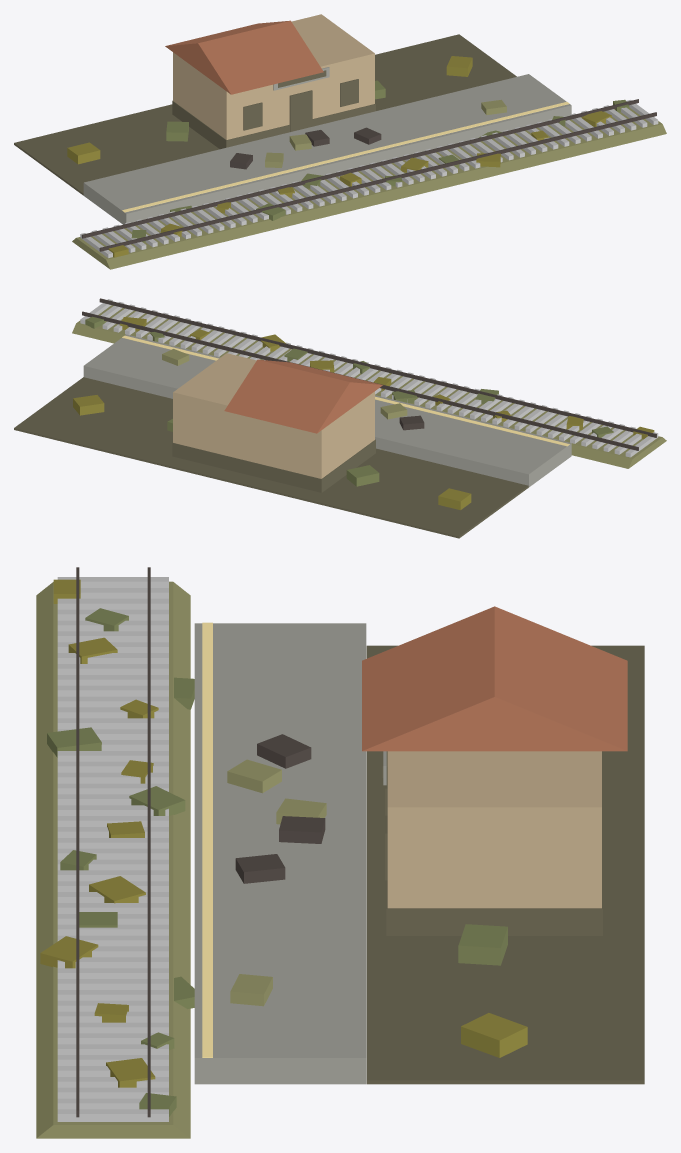
Rendered from SM_EstacionH1_v3_Abandonada_LOD0.fbx.
3 renders of one model, top to bottom at view 1: azimuth 30°, elevation 25°; view 2: azimuth 150°, elevation 25°; view 3: azimuth 270°, elevation 25°, orthographic. The views are drawn at different scales.
Visible parts, largest first — view 1: SM_estacion_h1_v3_LOD0; view 2: SM_estacion_h1_v3_LOD0; view 3: SM_estacion_h1_v3_LOD0.
Part boxes in pixels (x1,y1,x2,y2): SM_estacion_h1_v3_LOD0: (14,14,666,269); SM_estacion_h1_v3_LOD0: (14,298,666,538); SM_estacion_h1_v3_LOD0: (36,567,644,1138).
Bounding box in the file's own units: 30 × 4.8 × 14.2.
